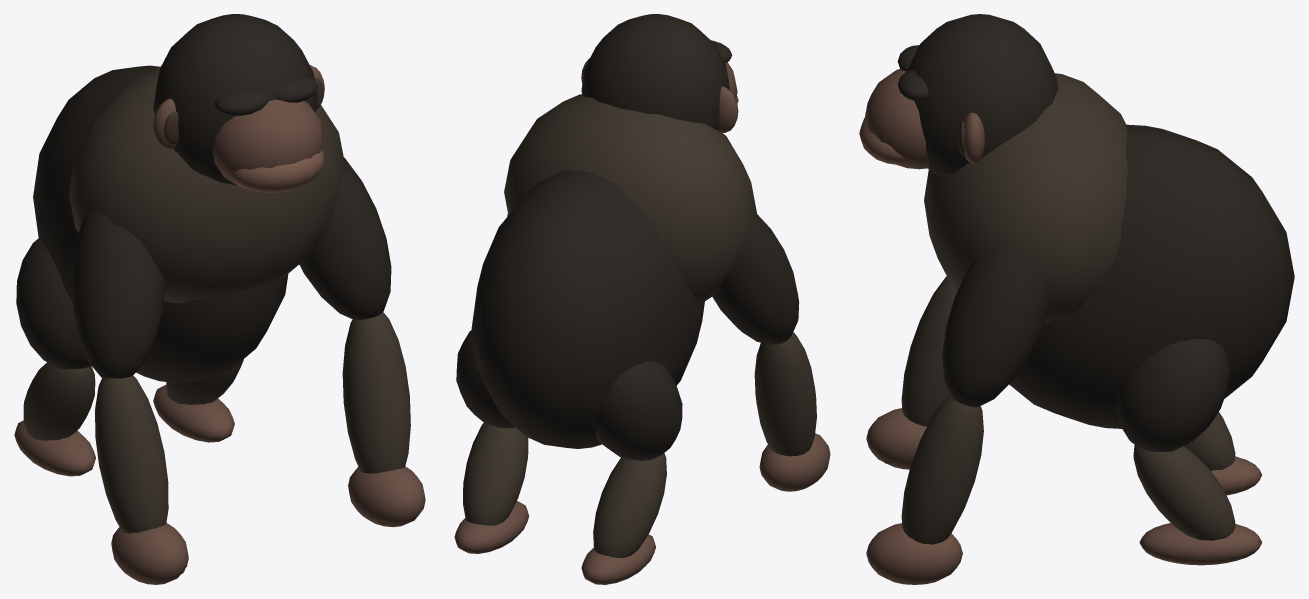
The model's file is chimpanzee.glb.
3 renders of one model, left to right at view 1: azimuth 30°, elevation 25°; view 2: azimuth 150°, elevation 25°; view 3: azimuth 270°, elevation 25°, orthographic. The views are drawn at different scales.
Parts seen in each view (by area): view 1: body, arm-1, arm1, leg-1, leg1, faceDetail-1; view 2: body, arm-1, leg-1, leg1; view 3: body, arm1, leg1, arm-1, leg-1, faceDetail-1.
Boxes of the visible parts, x1,y1,x2,y2 form: body: (33,14,345,382); arm-1: (72,211,188,584); arm1: (299,157,425,527); leg-1: (14,237,95,476); leg1: (153,359,243,442); faceDetail-1: (275,65,324,111); body: (471,14,756,448); arm-1: (712,213,830,491); leg-1: (581,361,682,584); leg1: (454,330,529,553); body: (859,14,1294,428); arm1: (866,252,1050,584); leg1: (1116,338,1262,565); arm-1: (866,276,957,469); leg-1: (1184,412,1262,495); faceDetail-1: (897,70,984,163).
Bounding box in the file's own units: 0.7435 × 1.19 × 0.928.
